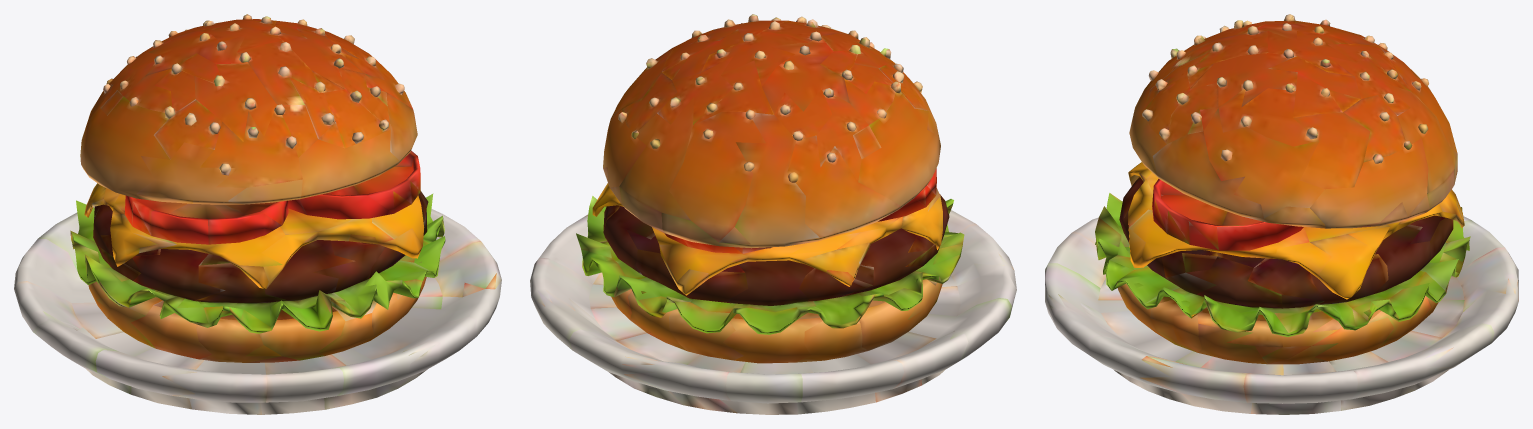
File: burger.glb
The picture shows the model from 3 angles, left to right: view 1: azimuth 30°, elevation 25°; view 2: azimuth 150°, elevation 25°; view 3: azimuth 270°, elevation 25°; orthographic projection.
Visible parts, largest first — view 1: Mesh_0.001; view 2: Mesh_0.001; view 3: Mesh_0.001.
Boxes of the visible parts, x1,y1,x2,y2 form: Mesh_0.001: [14, 14, 501, 414]; Mesh_0.001: [530, 14, 1016, 414]; Mesh_0.001: [1045, 14, 1518, 414].
Size of the model in its own units: 0.1445 by 0.1 by 0.1445.
1 material, 1 textured.
